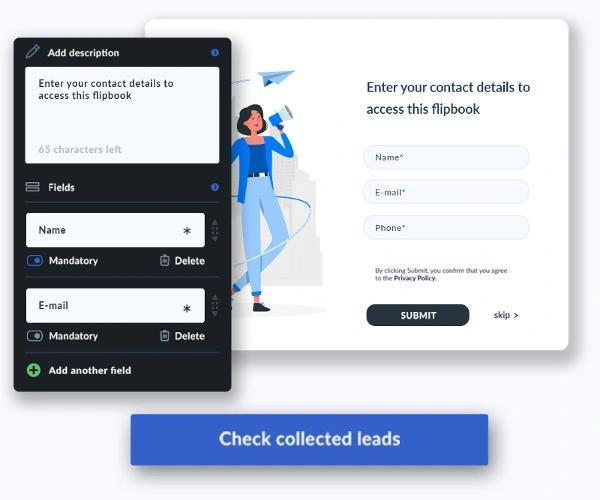button: (367, 304, 473, 327), (482, 301, 536, 330)
icon: (23, 44, 45, 64), (158, 252, 173, 272), (27, 363, 44, 380), (156, 330, 173, 346)
input: (25, 212, 208, 250), (25, 289, 208, 326), (365, 179, 531, 208), (367, 143, 531, 172), (364, 214, 530, 242)
label: (48, 366, 138, 380), (49, 252, 101, 272), (49, 330, 103, 346), (174, 330, 211, 346), (175, 253, 208, 268)
switch: (26, 253, 44, 270), (25, 330, 46, 343)
